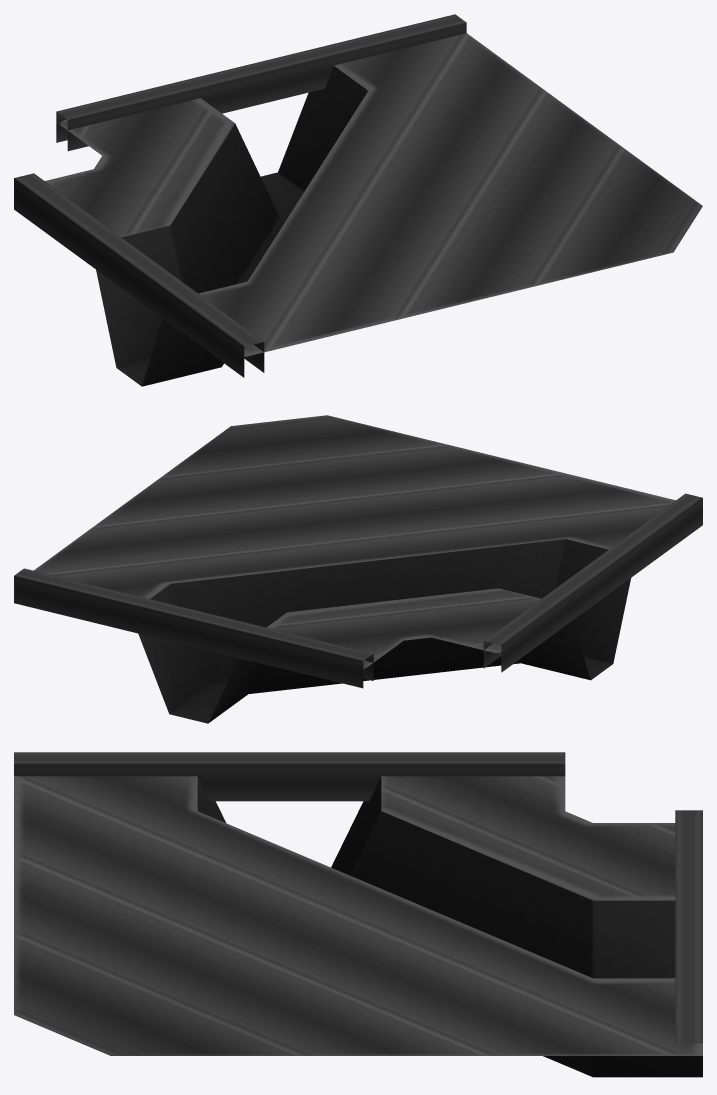
File: corridor_floorCorner.obj
The picture shows the model from 3 angles, top to bottom: view 1: azimuth 30°, elevation 25°; view 2: azimuth 150°, elevation 25°; view 3: azimuth 270°, elevation 25°; orthographic projection. The views are drawn at different scales.
Visible parts, largest first — view 1: Plane.002_Plane.007; view 2: Plane.002_Plane.007; view 3: Plane.002_Plane.007.
Boxes of the visible parts, x1=… form: Plane.002_Plane.007: x1=14, y1=14, x2=702, y2=386; Plane.002_Plane.007: x1=14, y1=415, x2=702, y2=723; Plane.002_Plane.007: x1=14, y1=752, x2=702, y2=1077.
Size of the model in its own units: 5 by 1.1 by 5.
